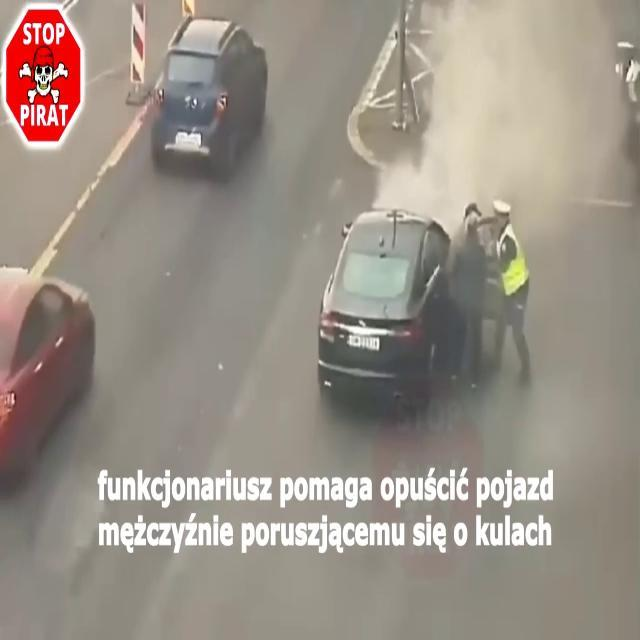Smoke: (362, 1, 640, 428)
